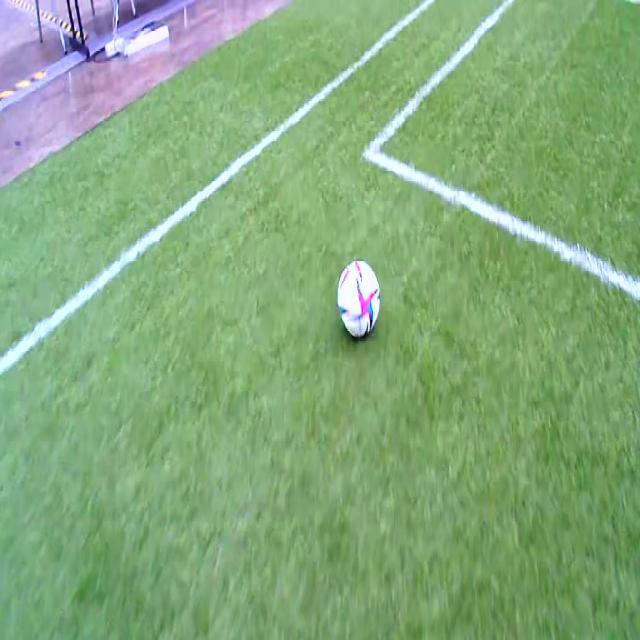ball: (338, 261, 380, 335)
